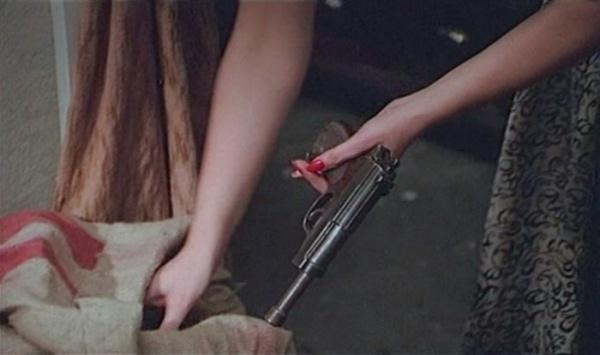Gun: (264, 120, 400, 328)
